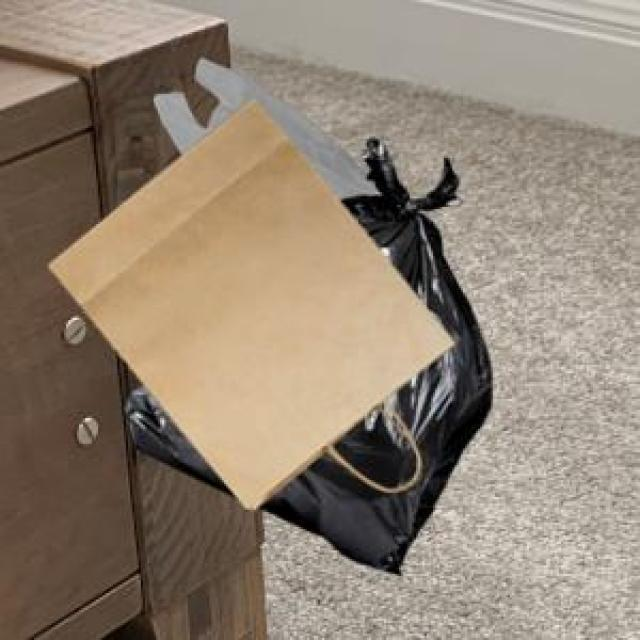miscellaneous trash: (122, 134, 489, 570)
paper: (45, 96, 450, 506)
